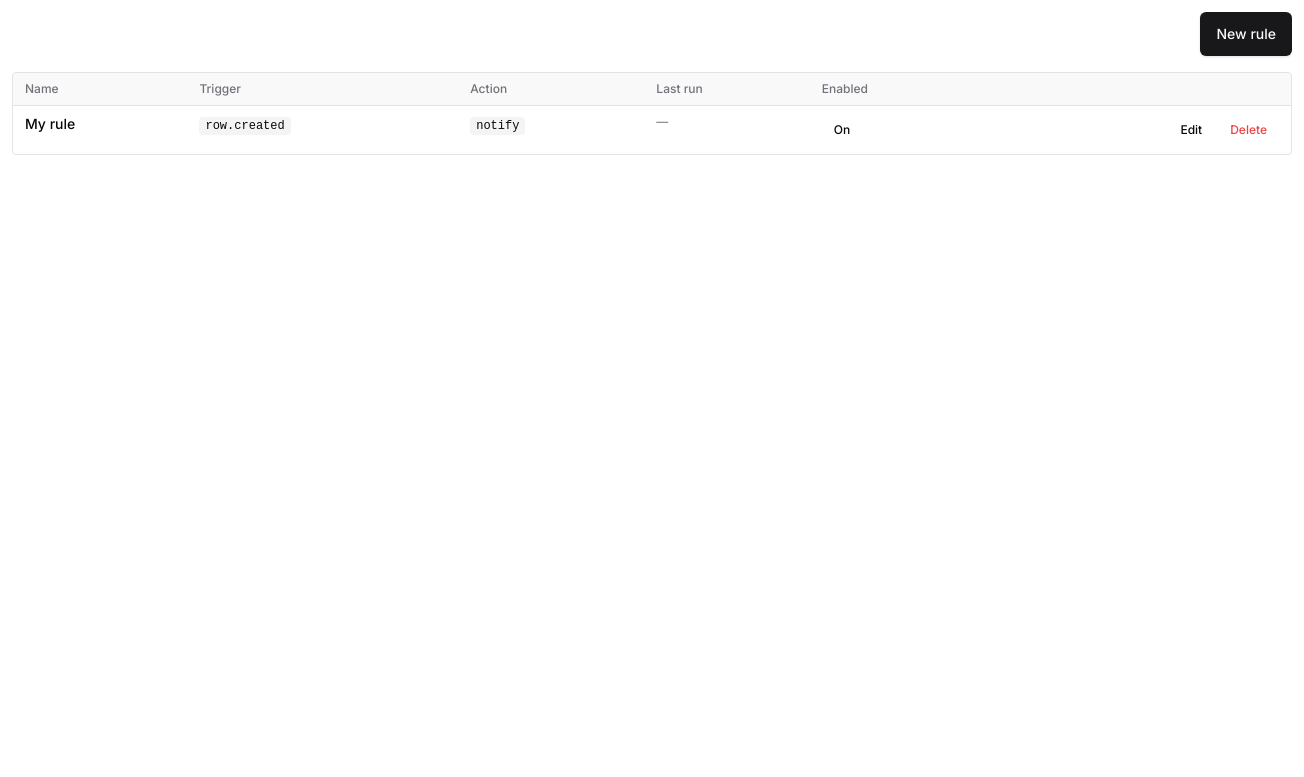
Test: Edit opens Builder + Run-history tabs; switching mounts the run history
Step 1. Click the button "Edit" → point(1191, 130), box top-left (1168, 114), bottom-right (1214, 146)
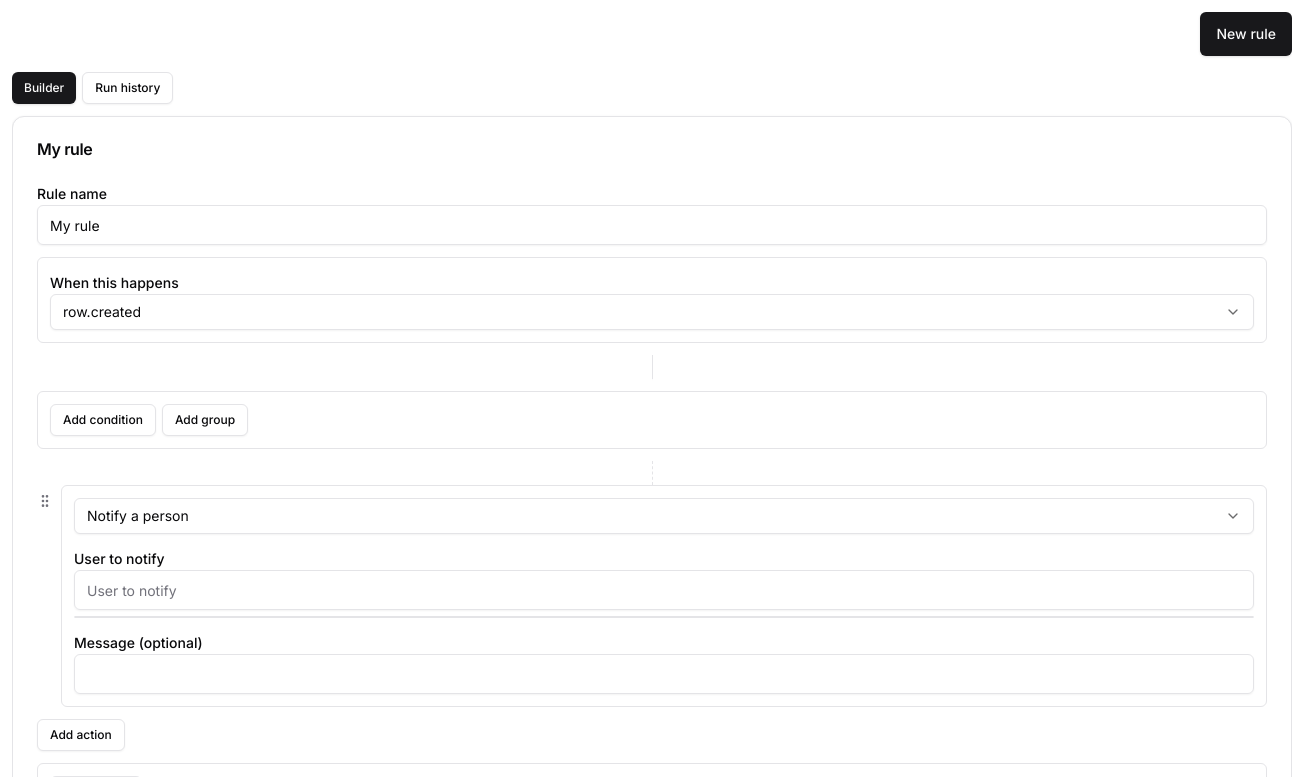
Now the tab "Builder" is shown, box top-left (12, 72), bottom-right (76, 104)
Now the tab "Run history" is shown
Now the text "When this happens" is shown, box top-left (50, 274), bottom-right (179, 291)
# Switch to Run history → empty state mounts.
Step 2. Click the tab "Run history" → point(128, 88), box top-left (82, 72), bottom-right (173, 104)
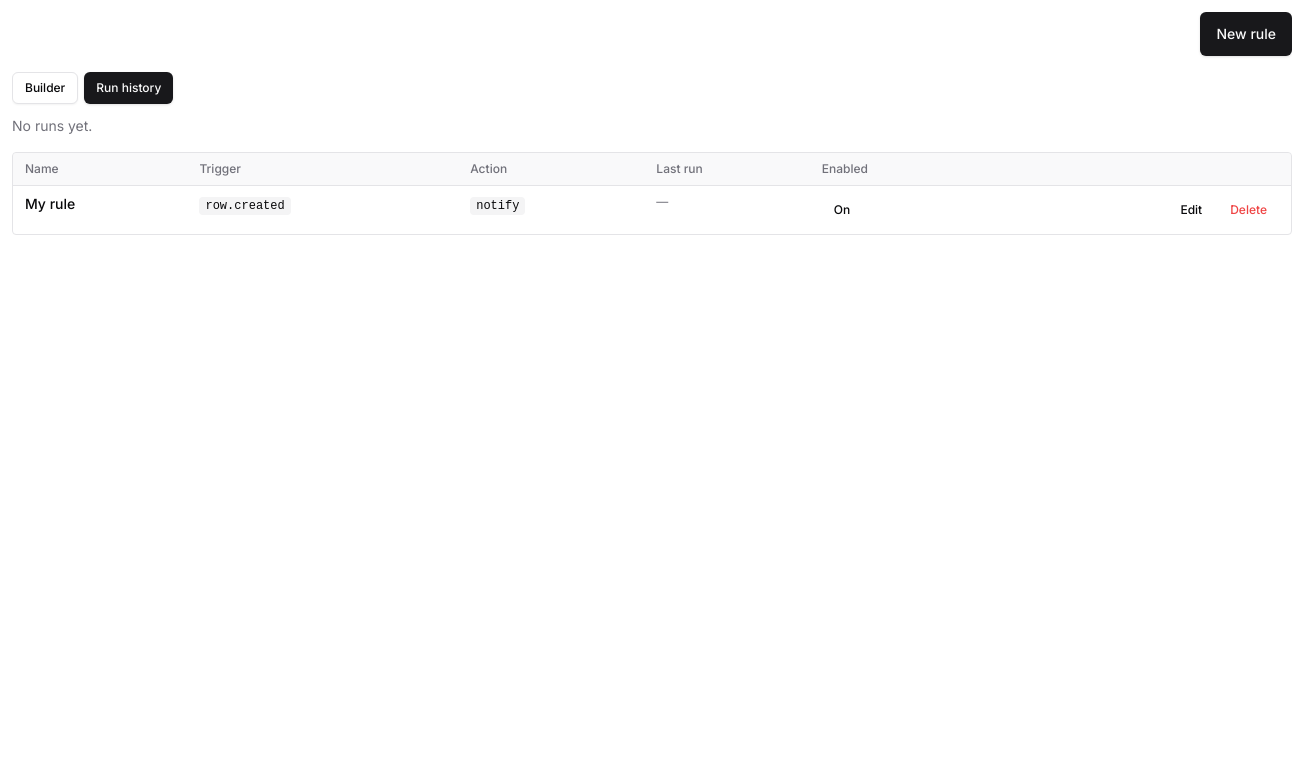
Now the text "No runs yet." is shown, box top-left (12, 117), bottom-right (92, 134)
